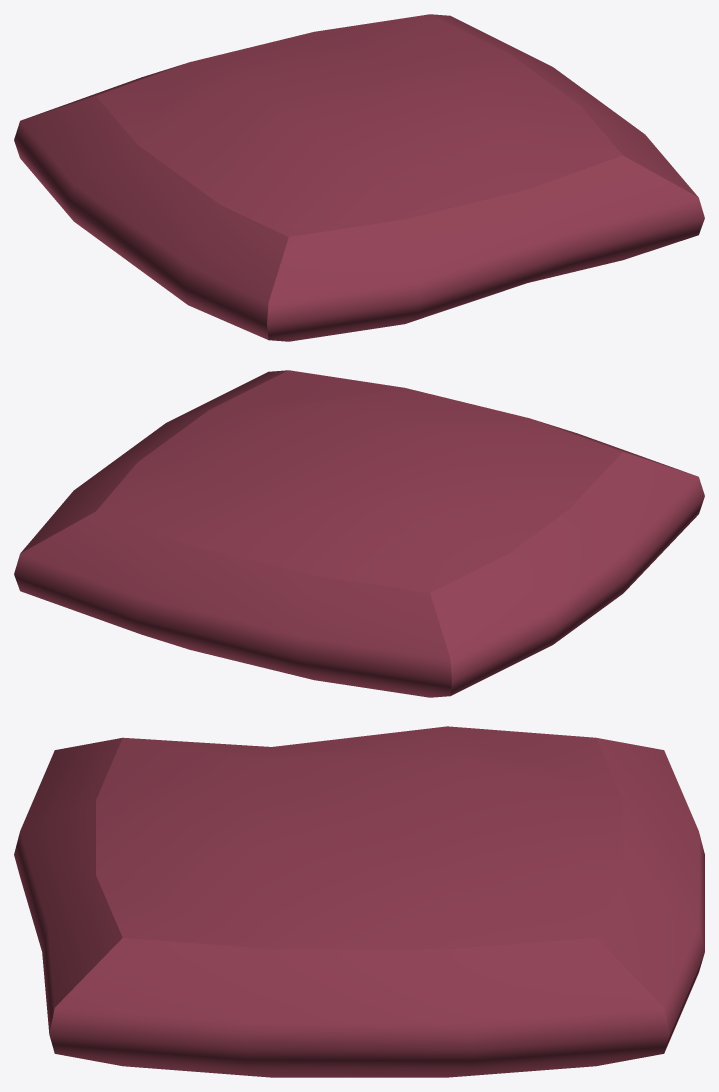
File: sofa_Pillow1.fbx
The picture shows the model from 3 angles, top to bottom: view 1: azimuth 30°, elevation 25°; view 2: azimuth 150°, elevation 25°; view 3: azimuth 270°, elevation 25°; orthographic projection. The views are drawn at different scales.
Parts seen in each view (by area): view 1: pCube3; view 2: pCube3; view 3: pCube3.
Boxes of the visible parts, bbox=[...] form: pCube3: bbox=[14, 14, 704, 341]; pCube3: bbox=[14, 370, 704, 697]; pCube3: bbox=[14, 726, 704, 1077].
Bounding box in the file's own units: 1.79 × 0.5656 × 1.79.
